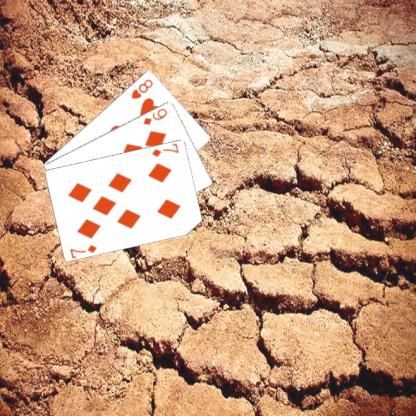7D: (67, 241, 99, 258), (149, 142, 180, 158)
8H: (128, 76, 154, 100)
9D: (140, 105, 169, 126)
